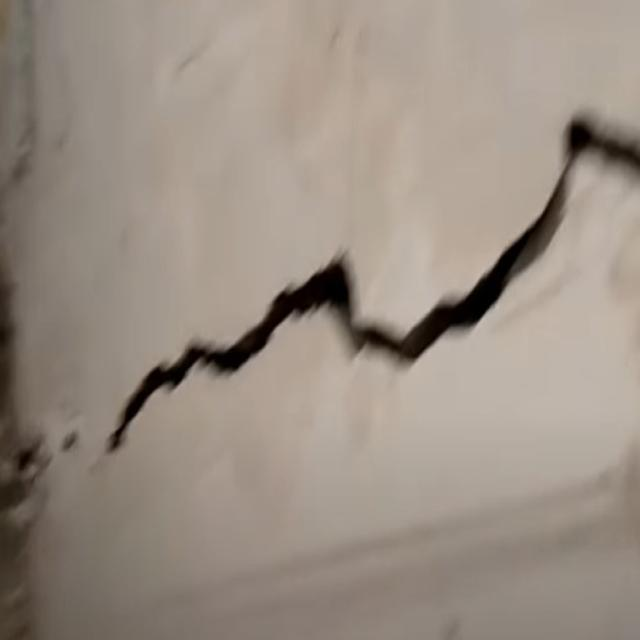Wall_Cracks: (9, 98, 640, 544)
